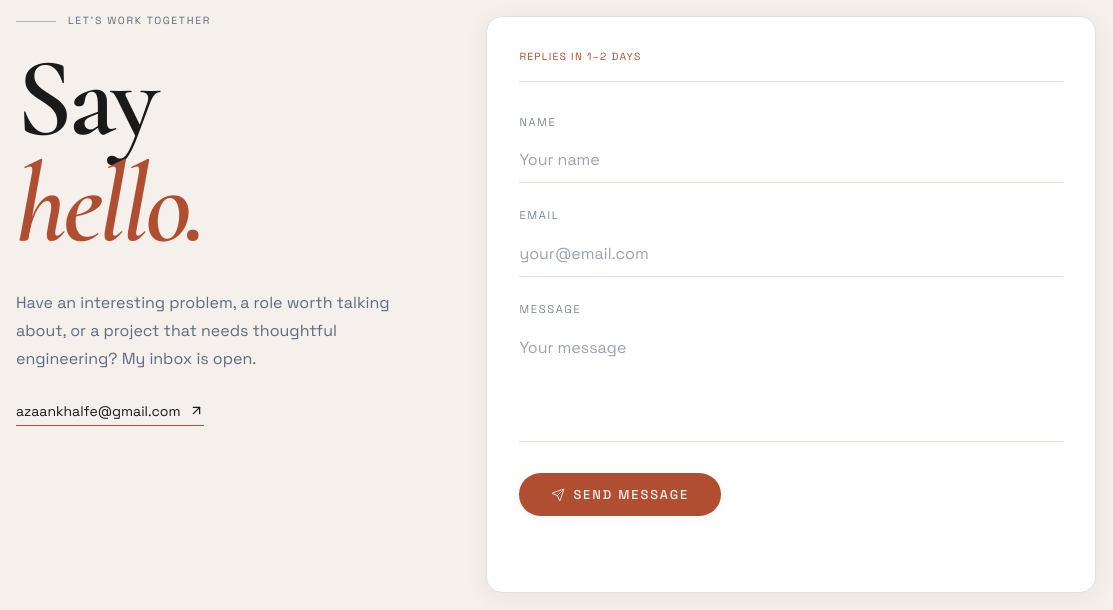
Scenario: ContactPage › explains Netlify's platform rate limit, which has no JSON body
The image size is (1113, 610).
In the field labelled "Name": point(791, 161) x1=519 y1=138 x2=1063 y2=183, type "Ada Lovelace"
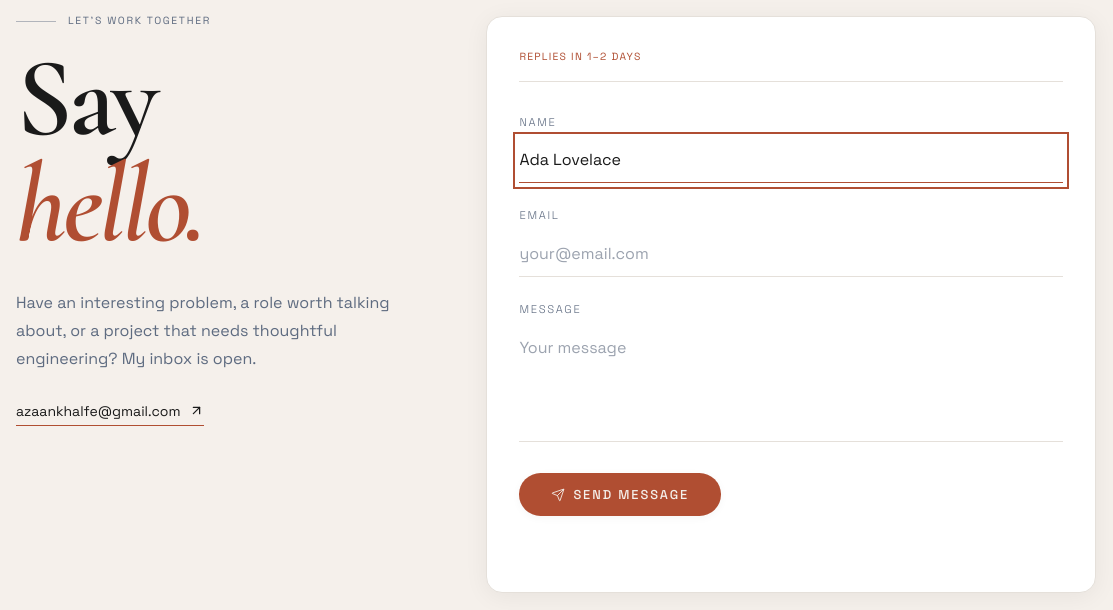
In the field labelled "Email": point(791, 255) x1=519 y1=232 x2=1063 y2=277, type "ada@example.com"
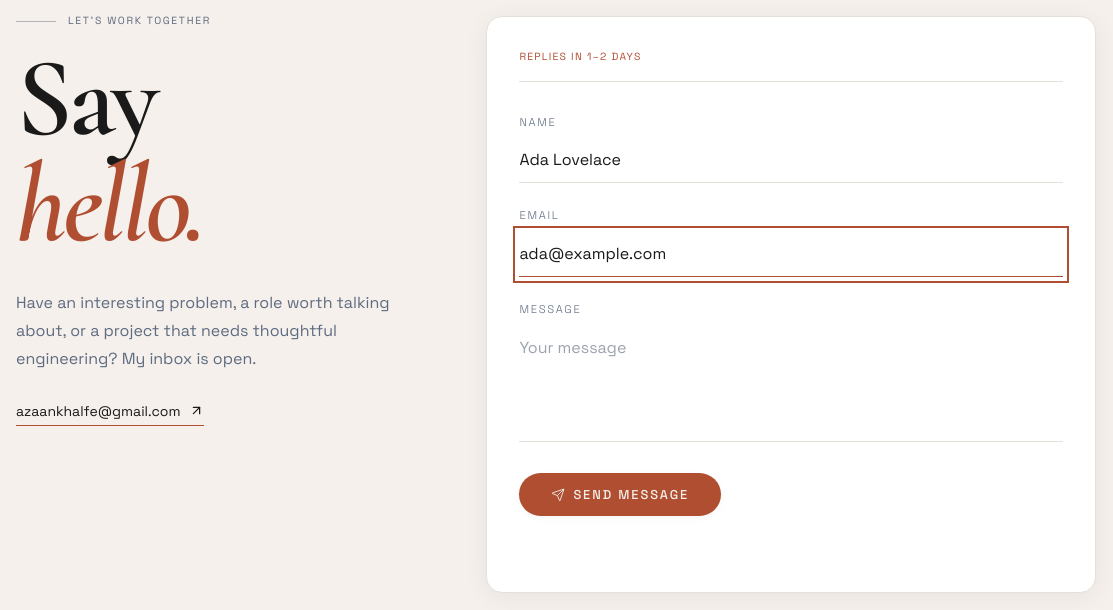
In the text box labelled "Message": point(791, 384) x1=519 y1=326 x2=1063 y2=442, type "I would love to chat about a role."
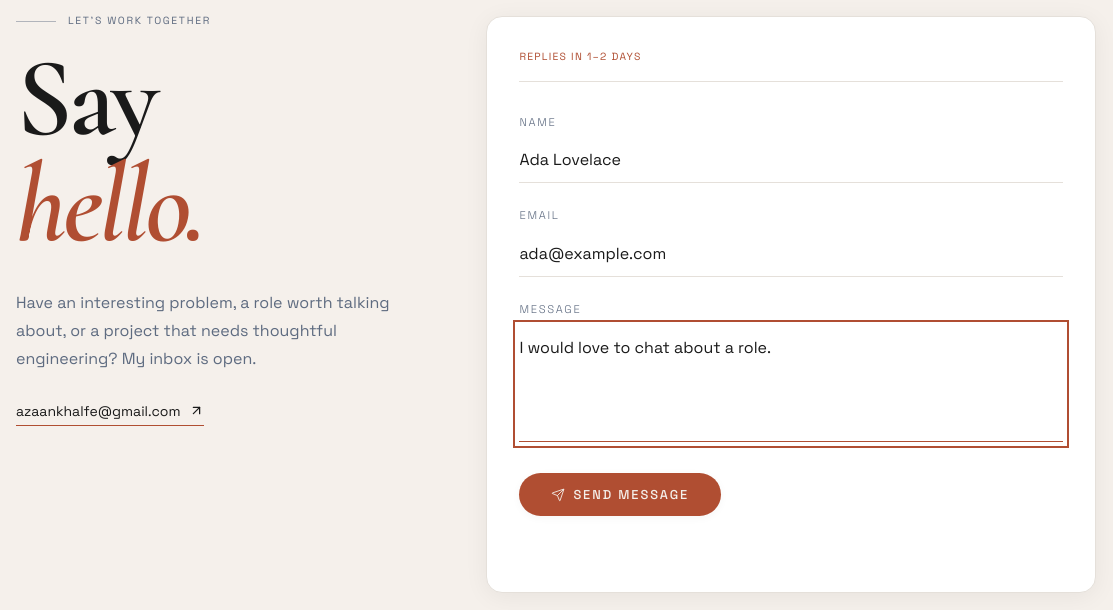
Click the button "Send Message": point(620, 495) x1=519 y1=473 x2=721 y2=516
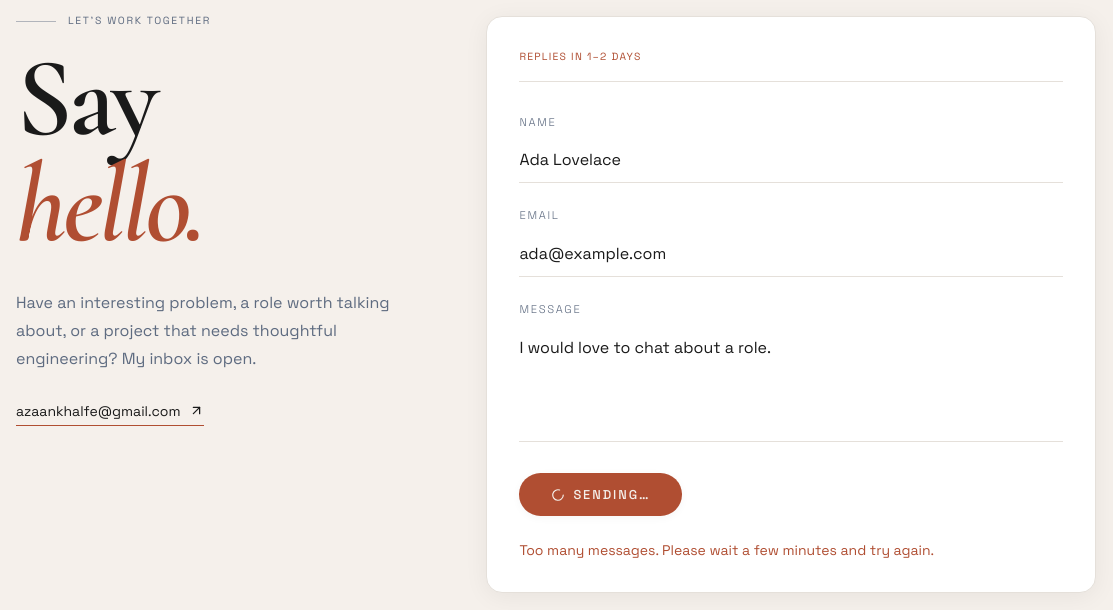
Expected: the text "Too many messages. Please wait a few minutes and try again." is shown, x1=519 y1=541 x2=934 y2=559
